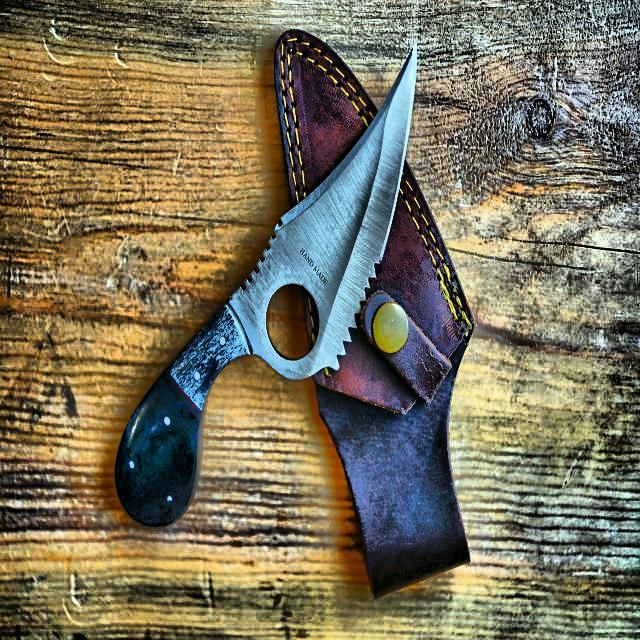knife: (115, 34, 423, 537)
